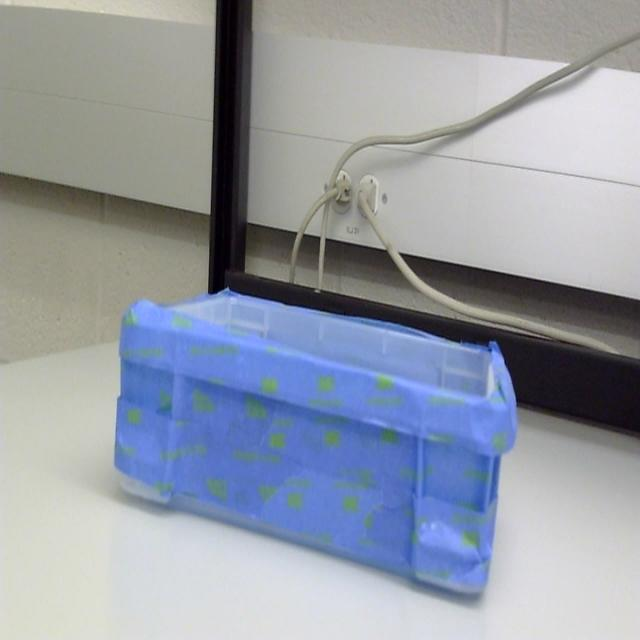bucket: (112, 290, 519, 606)
